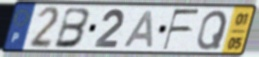2: (27, 5, 61, 50), (92, 8, 127, 51)
A: (121, 9, 154, 49)
B: (52, 6, 92, 50)
F: (161, 8, 202, 52)
Q: (195, 9, 230, 52)
